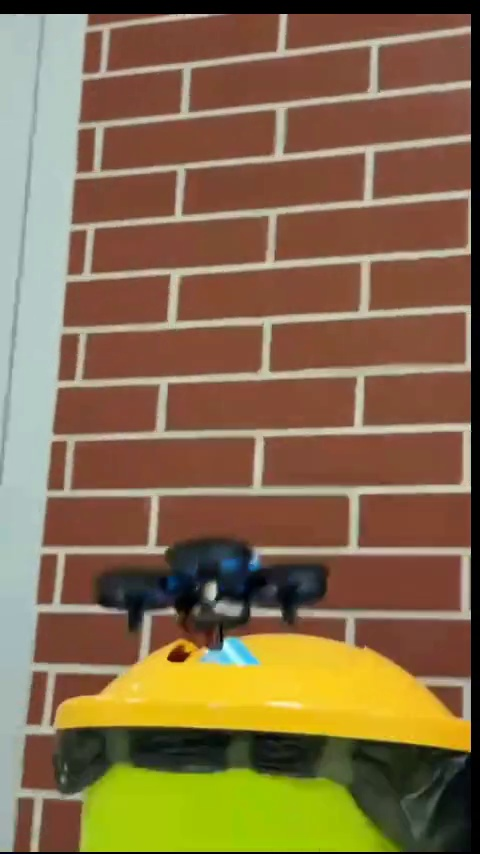drone: (95, 526, 328, 647)
